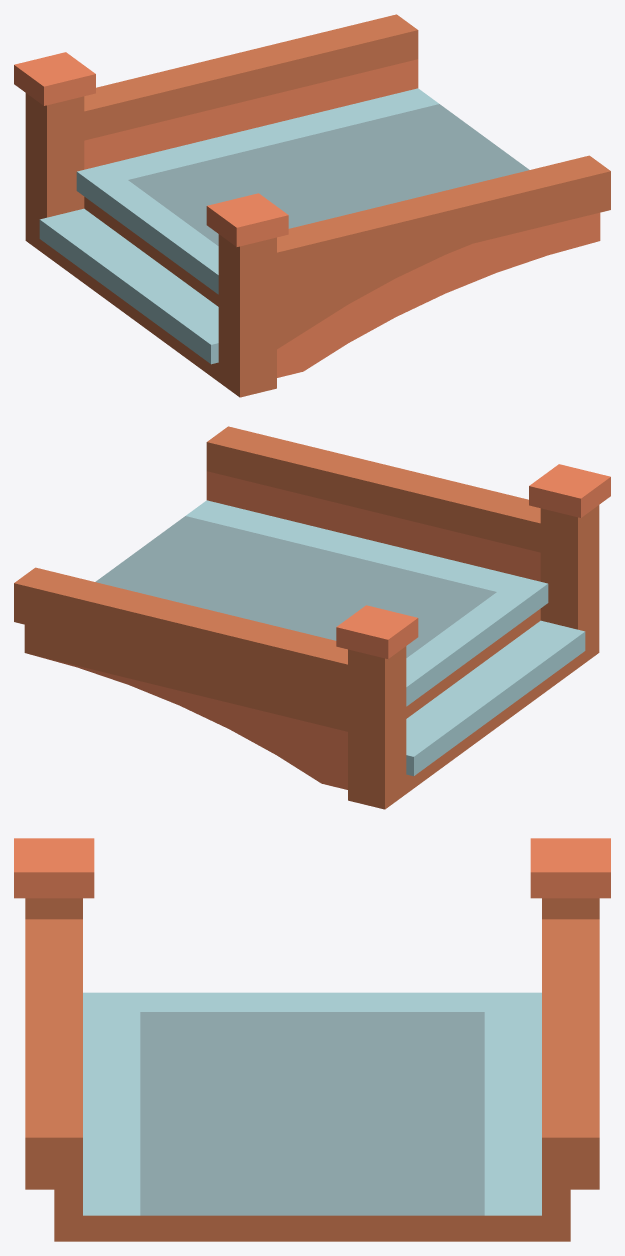
The picture shows the model from 3 angles, top to bottom: view 1: azimuth 30°, elevation 25°; view 2: azimuth 150°, elevation 25°; view 3: azimuth 270°, elevation 25°; orthographic projection. The views are drawn at different scales.
Parts seen in each view (by area): view 1: bridge_side_woodRound; view 2: bridge_side_woodRound; view 3: bridge_side_woodRound.
Part boxes in pixels (x1,y1,x2,y2): bridge_side_woodRound: (14,14,610,397); bridge_side_woodRound: (14,426,610,809); bridge_side_woodRound: (14,838,610,1241).
Size of the model in its own units: 1.02 by 0.45 by 1.04.
